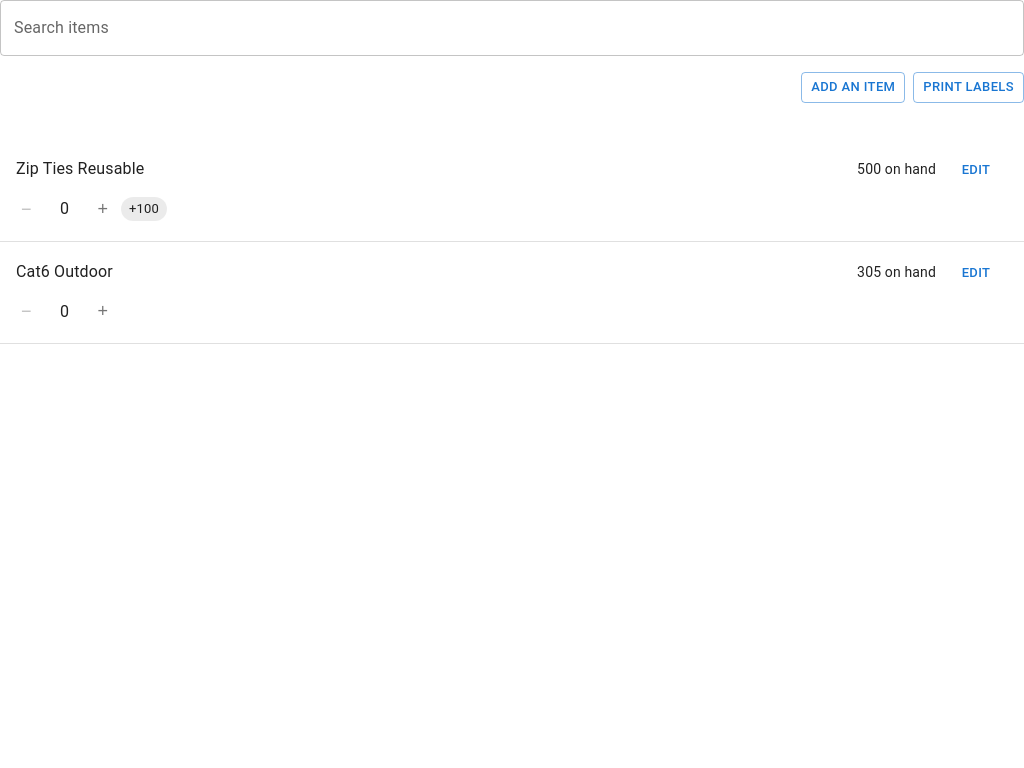
Test: what goes on the sheet › says so when nothing is live yet, rather than showing an empty list
Expected: the heading "Zip Ties Reusable" is shown, 16,155 -> 144,183
Click the button "Print labels" at (969, 87), box 913,72 -> 1023,103
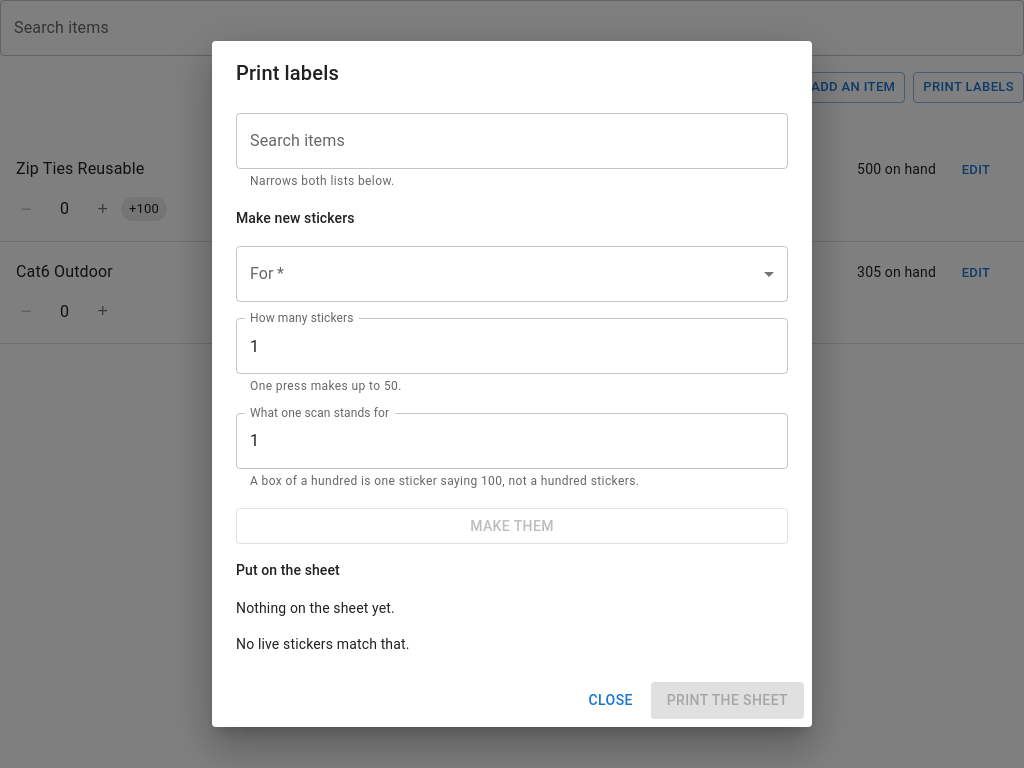
Result: the text "No live stickers match that." is shown at 236,636 -> 410,652
